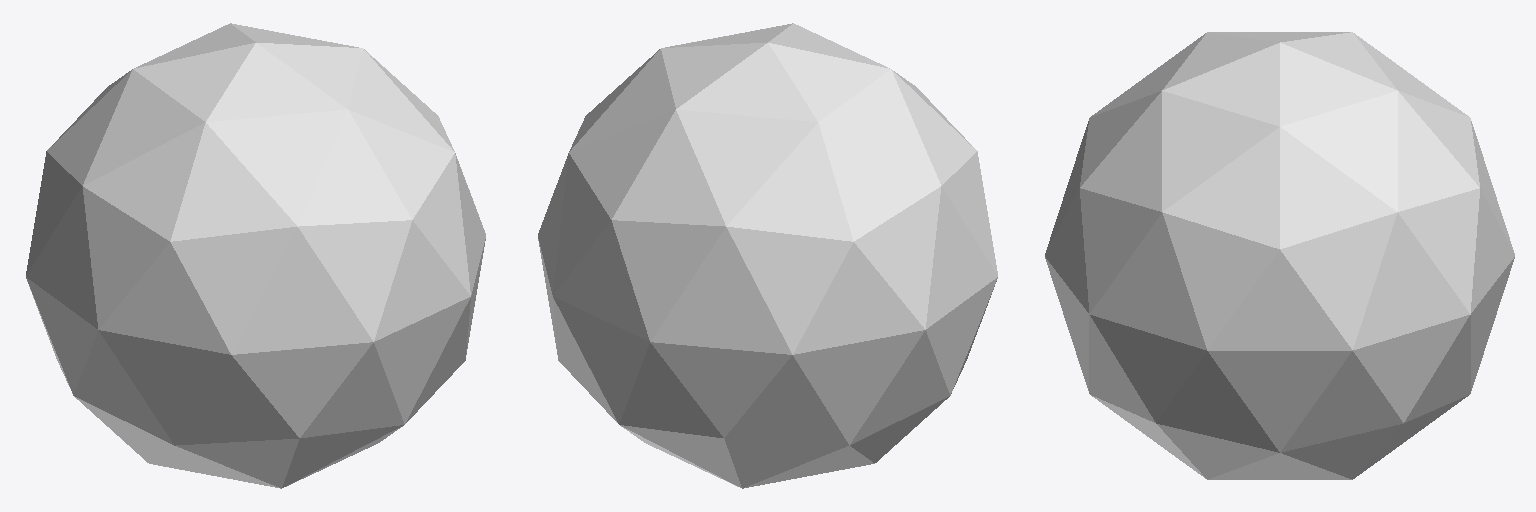
The model's file is telecore.obj.
The picture shows the model from 3 angles: view 1: azimuth 30°, elevation 25°; view 2: azimuth 150°, elevation 25°; view 3: azimuth 270°, elevation 25°; orthographic projection.
Visible parts, largest first — view 1: Icosphere; view 2: Icosphere; view 3: Icosphere.
Boxes of the visible parts, <box> form: Icosphere: <box>26,23,485,488</box>; Icosphere: <box>538,23,997,488</box>; Icosphere: <box>1045,32,1514,479</box>.
Bounding box in the file's own units: 0.4755 × 0.5 × 0.5.